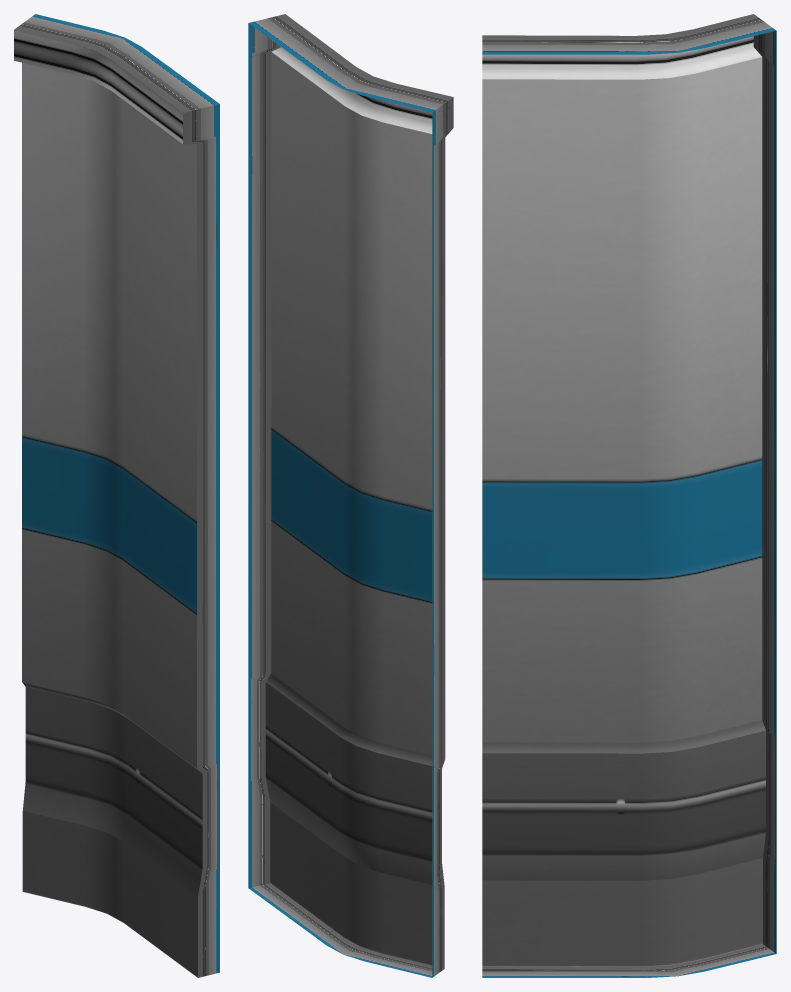
Rendered from XOB_LIN_BB.fbx.
3 views of the same model, side by side, from view 1: azimuth 30°, elevation 25°; view 2: azimuth 210°, elevation 25°; view 3: azimuth 270°, elevation 25° (orthographic). The views are drawn at different scales.
Parts seen in each view (by area): view 1: XOB_LIN_BB; view 2: XOB_LIN_BB; view 3: XOB_LIN_BB.
Boxes of the visible parts, box(x1,y1,x2,y2) form: XOB_LIN_BB: box(14, 14, 219, 977); XOB_LIN_BB: box(248, 14, 453, 977); XOB_LIN_BB: box(482, 14, 776, 977).
Bounding box in the file's own units: 0.424 × 4.5 × 1.3.
